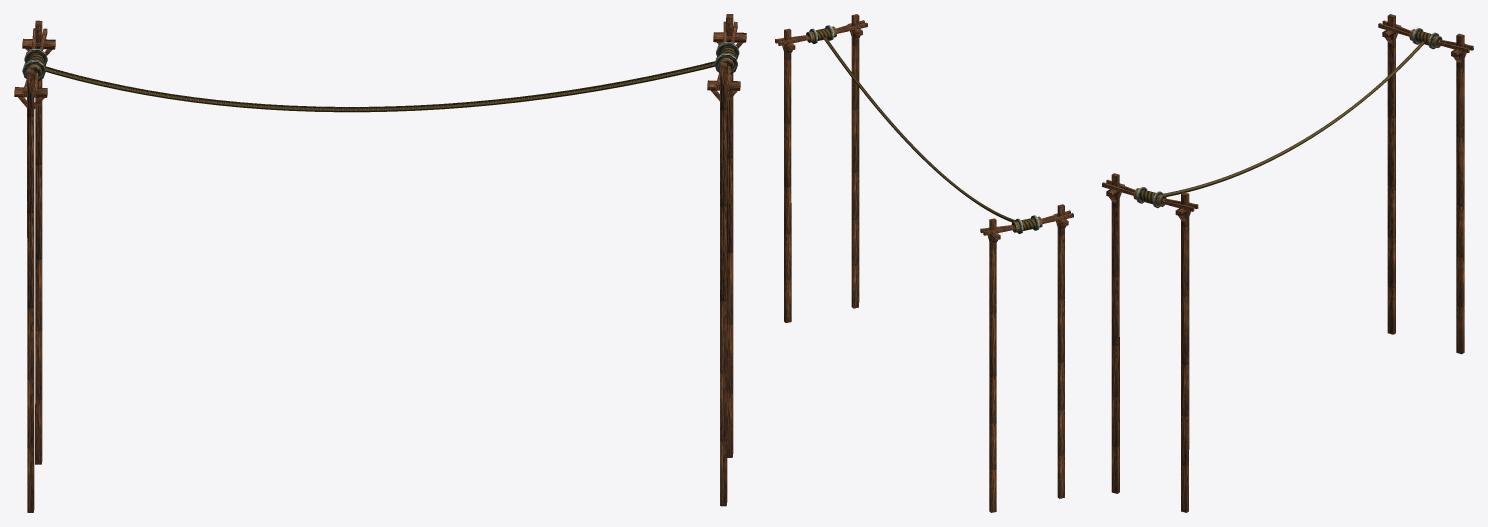
Rendered from RM_ROPE_POLES.fbx.
The picture shows the model from 3 angles, left to right: view 1: azimuth 30°, elevation 25°; view 2: azimuth 150°, elevation 25°; view 3: azimuth 270°, elevation 25°; orthographic projection. The views are drawn at different scales.
Visible parts, largest first — view 1: RM_ROPE_POLES; view 2: RM_ROPE_POLES; view 3: RM_ROPE_POLES.
Boxes of the visible parts, left/top/right/bottom form: RM_ROPE_POLES: left=14, top=14, right=746, bottom=512; RM_ROPE_POLES: left=775, top=14, right=1073, bottom=512; RM_ROPE_POLES: left=1102, top=14, right=1473, bottom=512.
Size of the model in its own units: 136386 by 103639 by 104205.
Materials: 6 (6 with a texture image).
